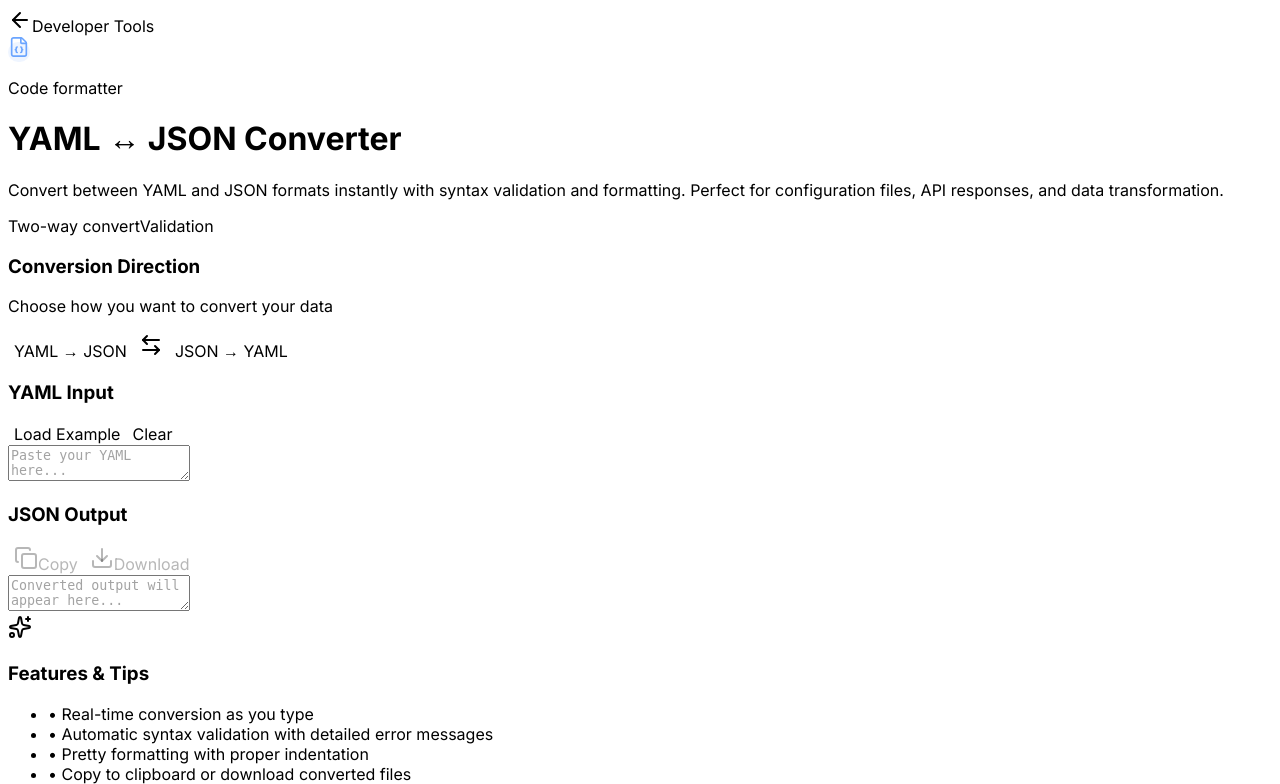
Test case: YAML ↔ JSON Converter Page - Component Tests › Direction Swap Functionality › should swap conversion direction
This screenshot has width=1280, height=784.
Step 1. Click the button named "Swap conversion direction" → {"x": 151, "y": 347}, box [133, 332, 169, 362]
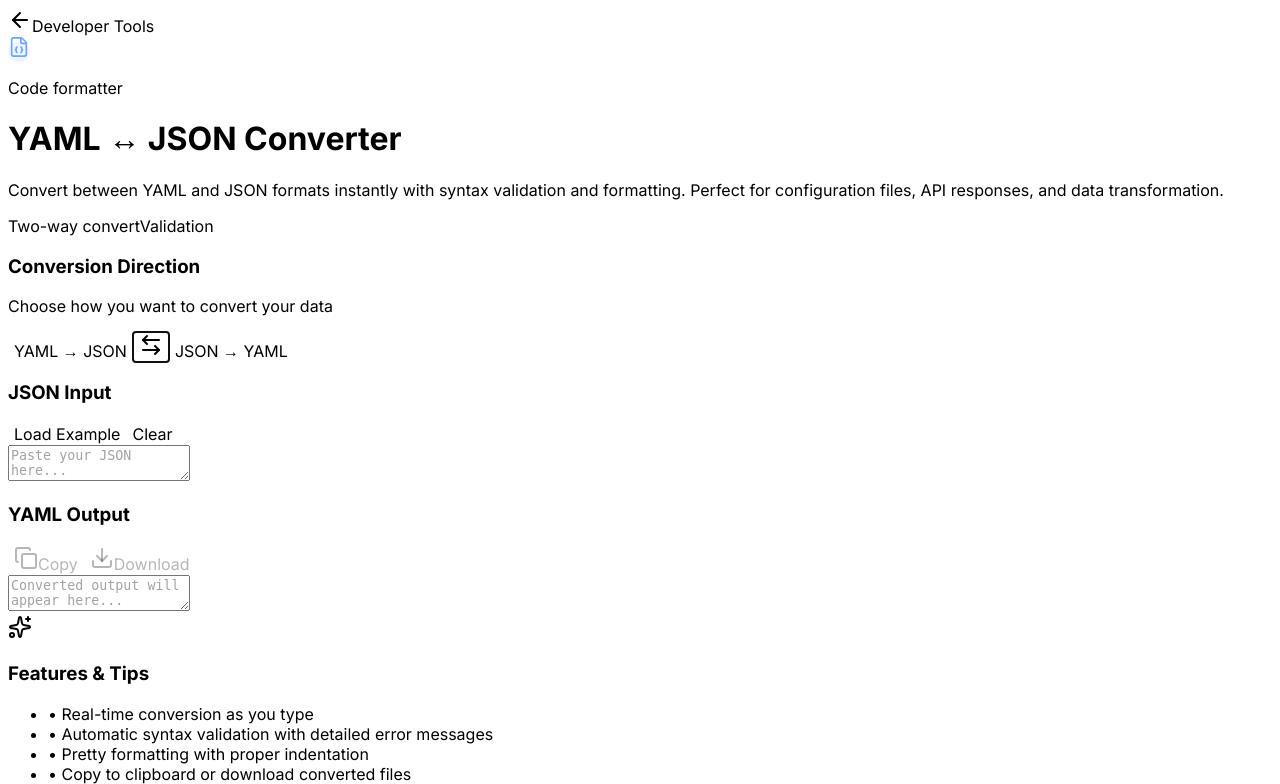
expect the heading "JSON Input" is shown: met, box [8, 381, 112, 404]
expect the heading "YAML Output" is shown: met, box [8, 504, 130, 526]
